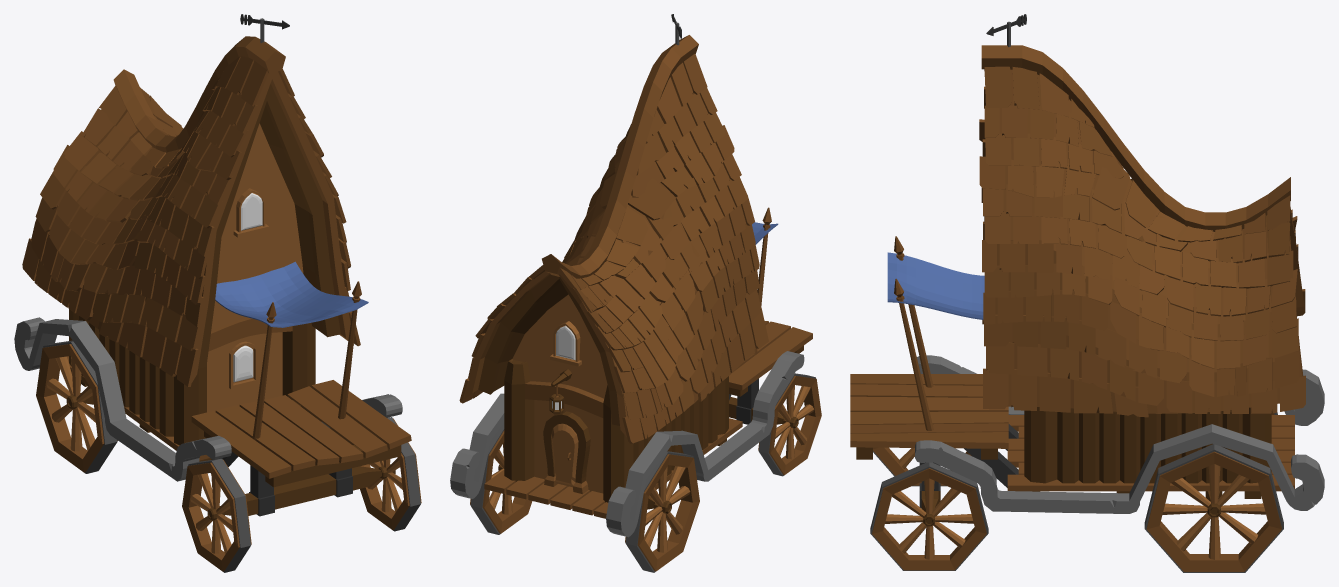
The model's file is C_A_CarriageBlue.fbx.
3 renders of one model, left to right at view 1: azimuth 30°, elevation 25°; view 2: azimuth 150°, elevation 25°; view 3: azimuth 270°, elevation 25°, orthographic. The views are drawn at different scales.
Visible parts, largest first — view 1: C_A_CarriageBlue, C_Wheel.017, C_Wheel.022, C_Wheel.023; view 2: C_A_CarriageBlue, C_Wheel.017, C_Wheel.022, C_Wheel.016; view 3: C_A_CarriageBlue, C_Wheel.016, C_Wheel.023, C_Wheel.022.
Part boxes in pixels (x1=…): C_A_CarriageBlue: x1=14, y1=14, x2=411, y2=516; C_Wheel.017: x1=36, y1=340, x2=117, y2=473; C_Wheel.022: x1=182, y1=458, x2=251, y2=572; C_Wheel.023: x1=360, y1=417, x2=421, y2=531; C_A_CarriageBlue: x1=450, y1=14, x2=812, y2=537; C_Wheel.017: x1=625, y1=451, x2=699, y2=572; C_Wheel.022: x1=758, y1=373, x2=821, y2=476; C_Wheel.016: x1=470, y1=423, x2=532, y2=534; C_A_CarriageBlue: x1=850, y1=14, x2=1324, y2=513; C_Wheel.016: x1=1144, y1=444, x2=1283, y2=572; C_Wheel.023: x1=870, y1=462, x2=988, y2=570; C_Wheel.022: x1=873, y1=447, x2=971, y2=486.
Size of the model in its own units: 307 by 759 by 644.
